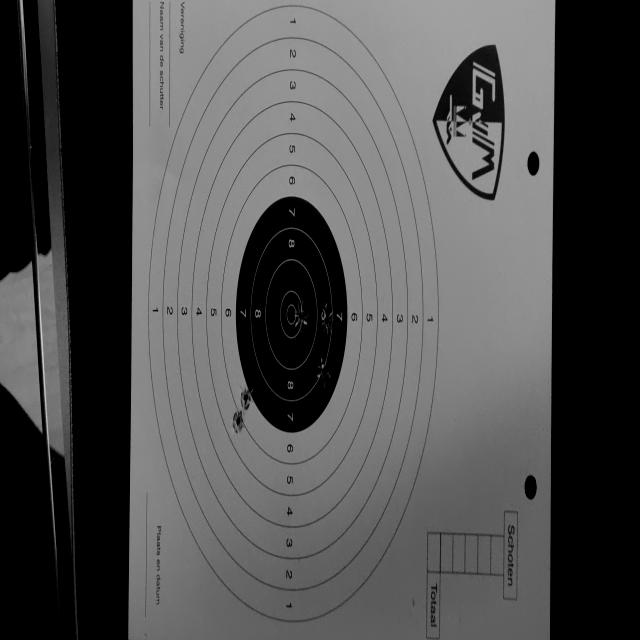10: (294, 299, 310, 332)
6: (232, 410, 244, 436)
7: (239, 384, 254, 412)
8: (317, 356, 332, 388), (320, 304, 333, 336)
Target: (147, 3, 440, 626)
black_contour: (236, 196, 348, 433)
